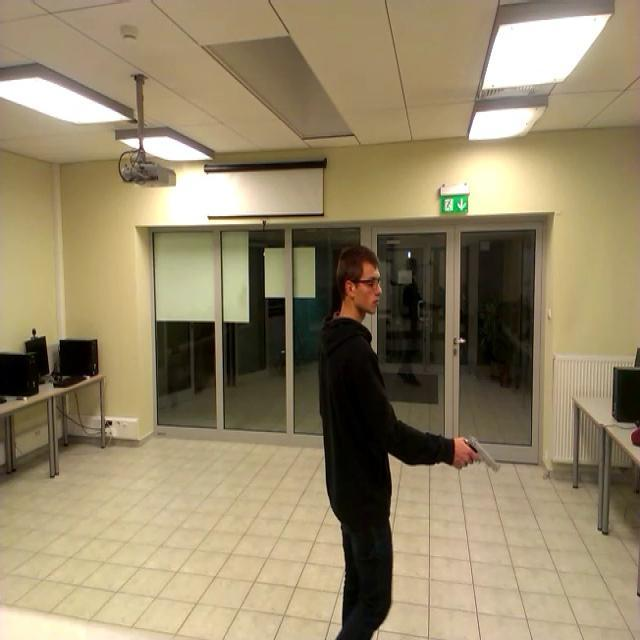Gun: (455, 425, 507, 477)
